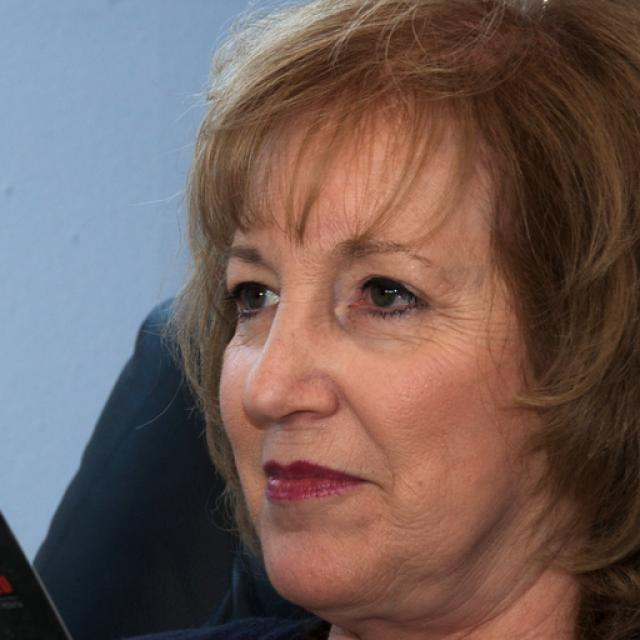disgust: (218, 102, 534, 614)
